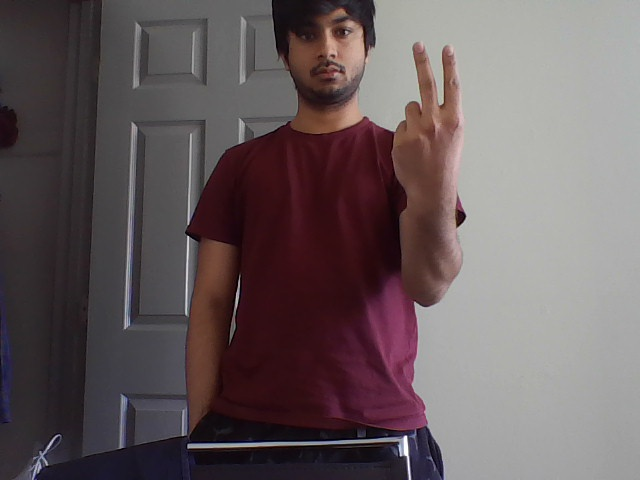two: (398, 28, 480, 138)
